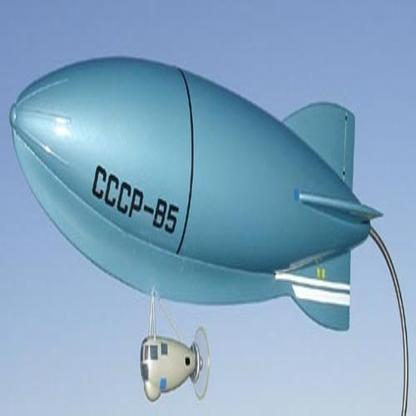Airship: (7, 56, 377, 396)
